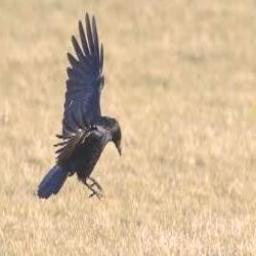Crow: (36, 12, 122, 201)
